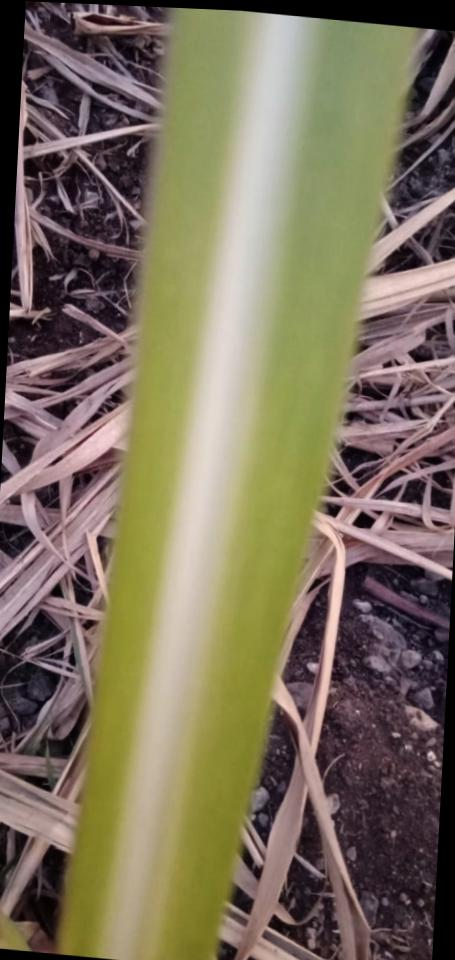Healthy: (55, 8, 418, 960)
